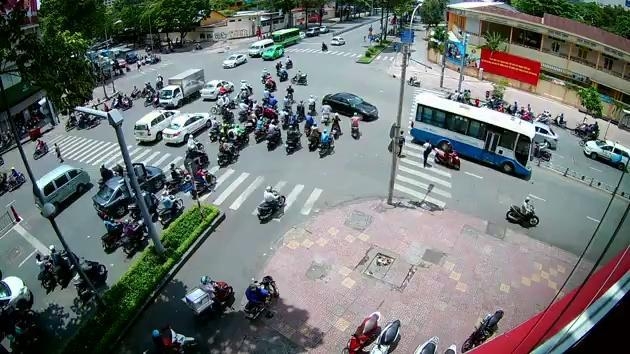xe buyt: (412, 91, 532, 181)
xe hoi: (90, 163, 163, 218), (321, 90, 378, 121), (132, 108, 179, 143), (162, 111, 211, 144), (582, 138, 629, 168), (199, 79, 233, 99), (220, 53, 246, 69)
xe may: (184, 274, 234, 323), (140, 326, 199, 354), (240, 275, 275, 320), (46, 243, 76, 286), (256, 183, 285, 222), (505, 196, 538, 229), (119, 219, 147, 255), (99, 213, 124, 253), (162, 162, 190, 193), (157, 191, 182, 224), (33, 251, 54, 290), (188, 166, 215, 196), (433, 142, 460, 169), (182, 145, 209, 171), (216, 135, 237, 166), (264, 117, 280, 150), (285, 124, 302, 153), (319, 127, 335, 157), (5, 166, 24, 191), (306, 120, 319, 152), (185, 132, 205, 152), (348, 111, 360, 139), (330, 111, 341, 140)
xe tai: (158, 67, 203, 108)
xe van: (32, 163, 89, 208)
